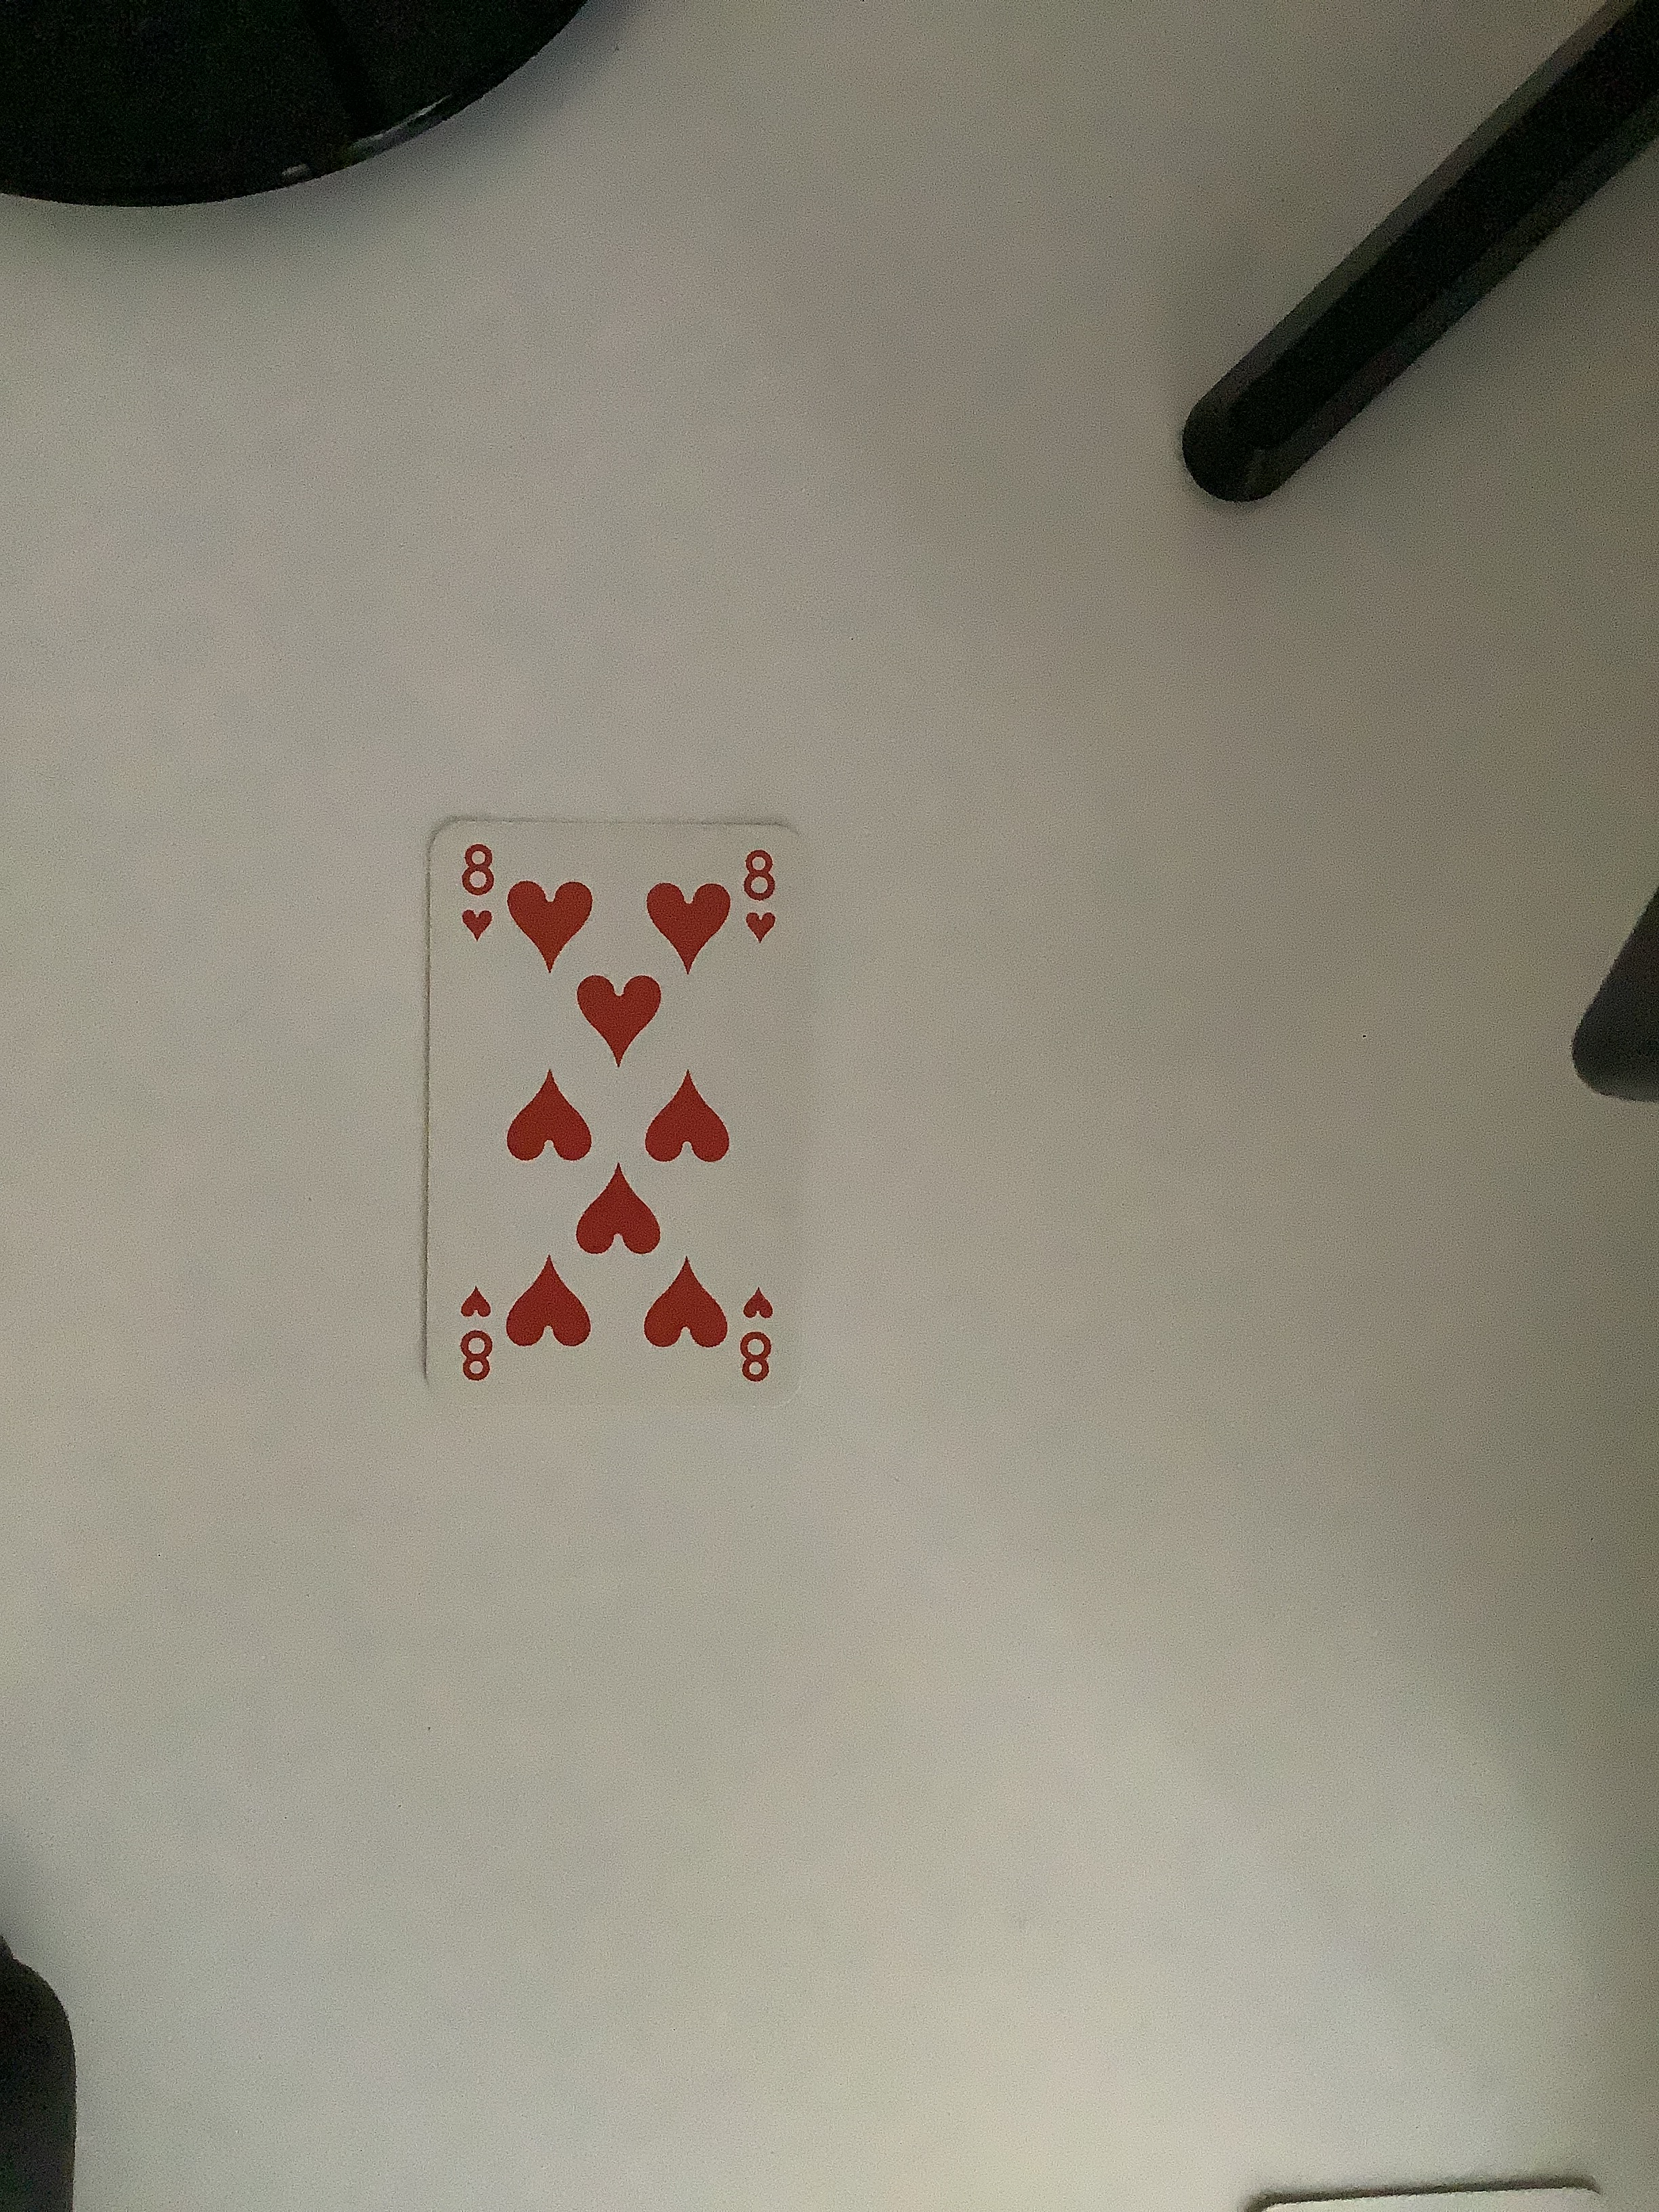♥ 8: (397, 794, 833, 1430)
